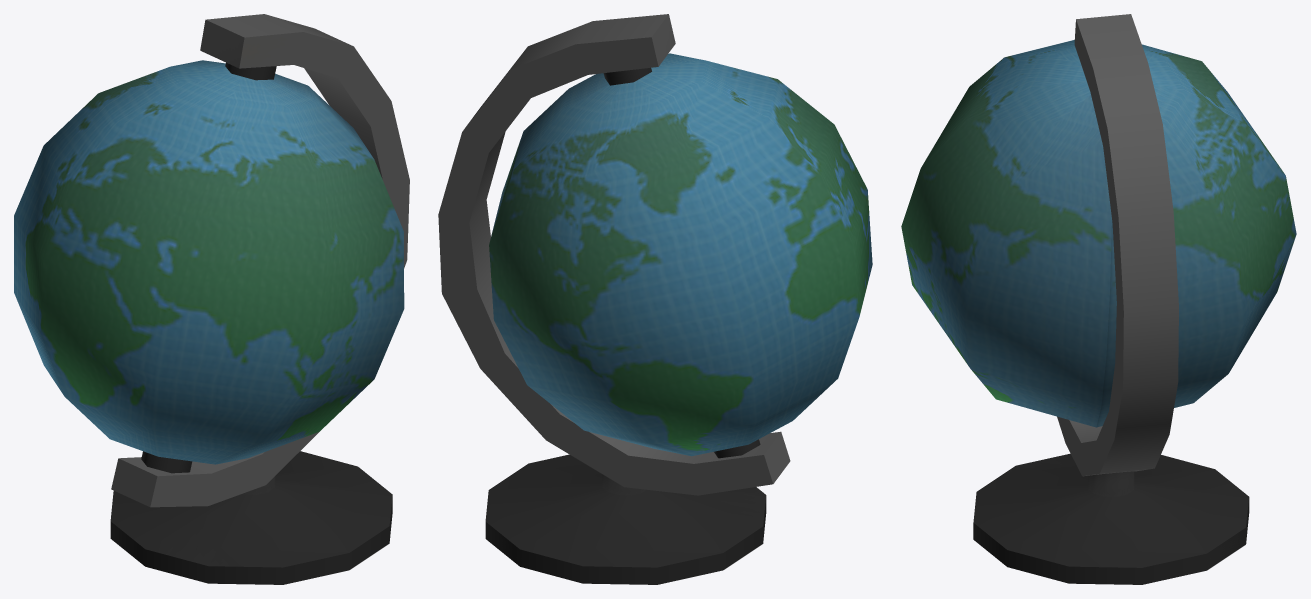
File: globe.fbx
The picture shows the model from 3 angles, left to right: view 1: azimuth 30°, elevation 25°; view 2: azimuth 150°, elevation 25°; view 3: azimuth 270°, elevation 25°; orthographic projection. The views are drawn at different scales.
Visible parts, largest first — view 1: pCylinder3; view 2: pCylinder3; view 3: pCylinder3.
Part boxes in pixels (x1,y1,x2,y2): pCylinder3: (14,14,409,584); pCylinder3: (438,14,872,584); pCylinder3: (901,14,1296,584).
Bounding box in the file's own units: 23.21 × 29.03 × 20.99.
